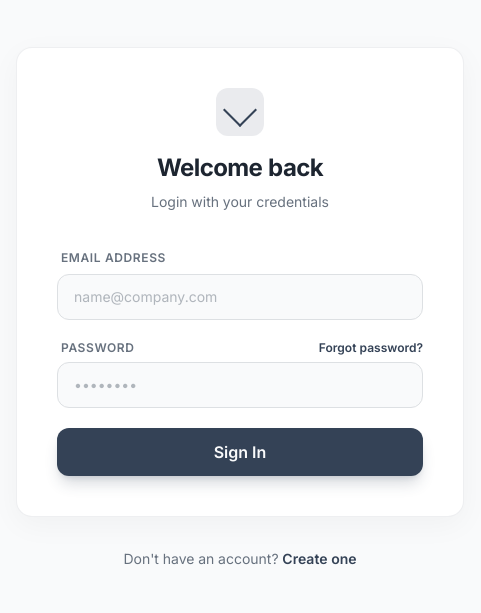
Test case: Authentication Flow › should show error with invalid credentials
Type "admin@acme.com" into the field with placeholder "name@company.com" at (240, 297), box [57,274,423,320]
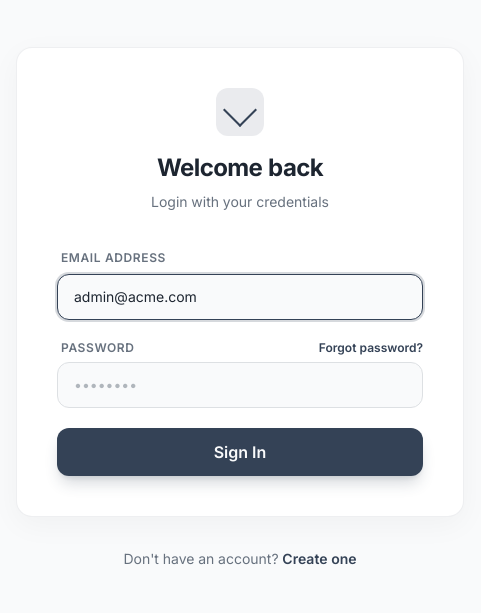
Type "WrongPassword" into the password field with placeholder "••••••••" at (240, 385), box [57,362,423,408]
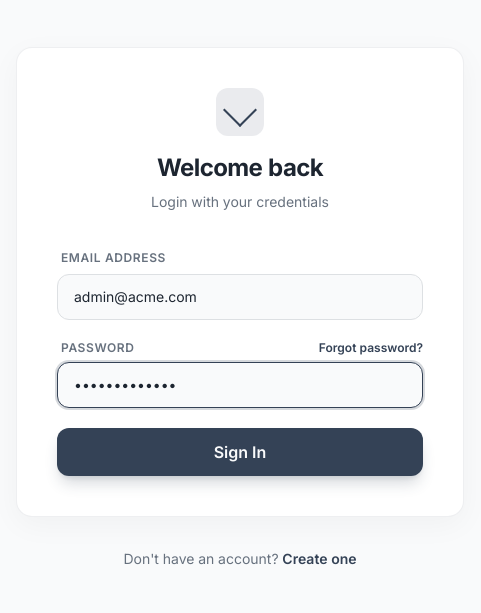
Click the button "Sign In" at (240, 452), box [57,428,423,476]
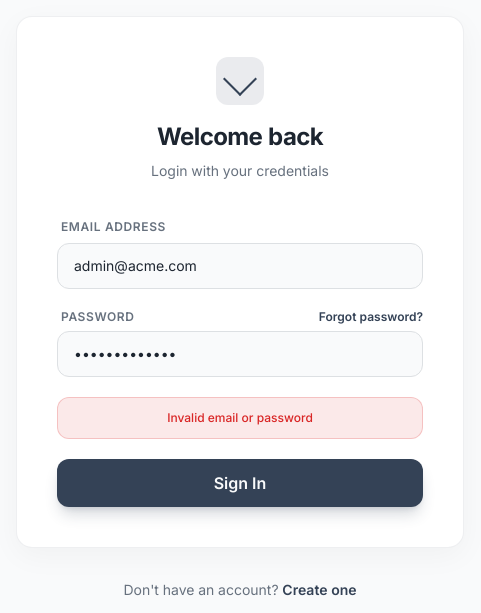
Expected: the text "Invalid email or password" is shown, [167,410,313,425]
